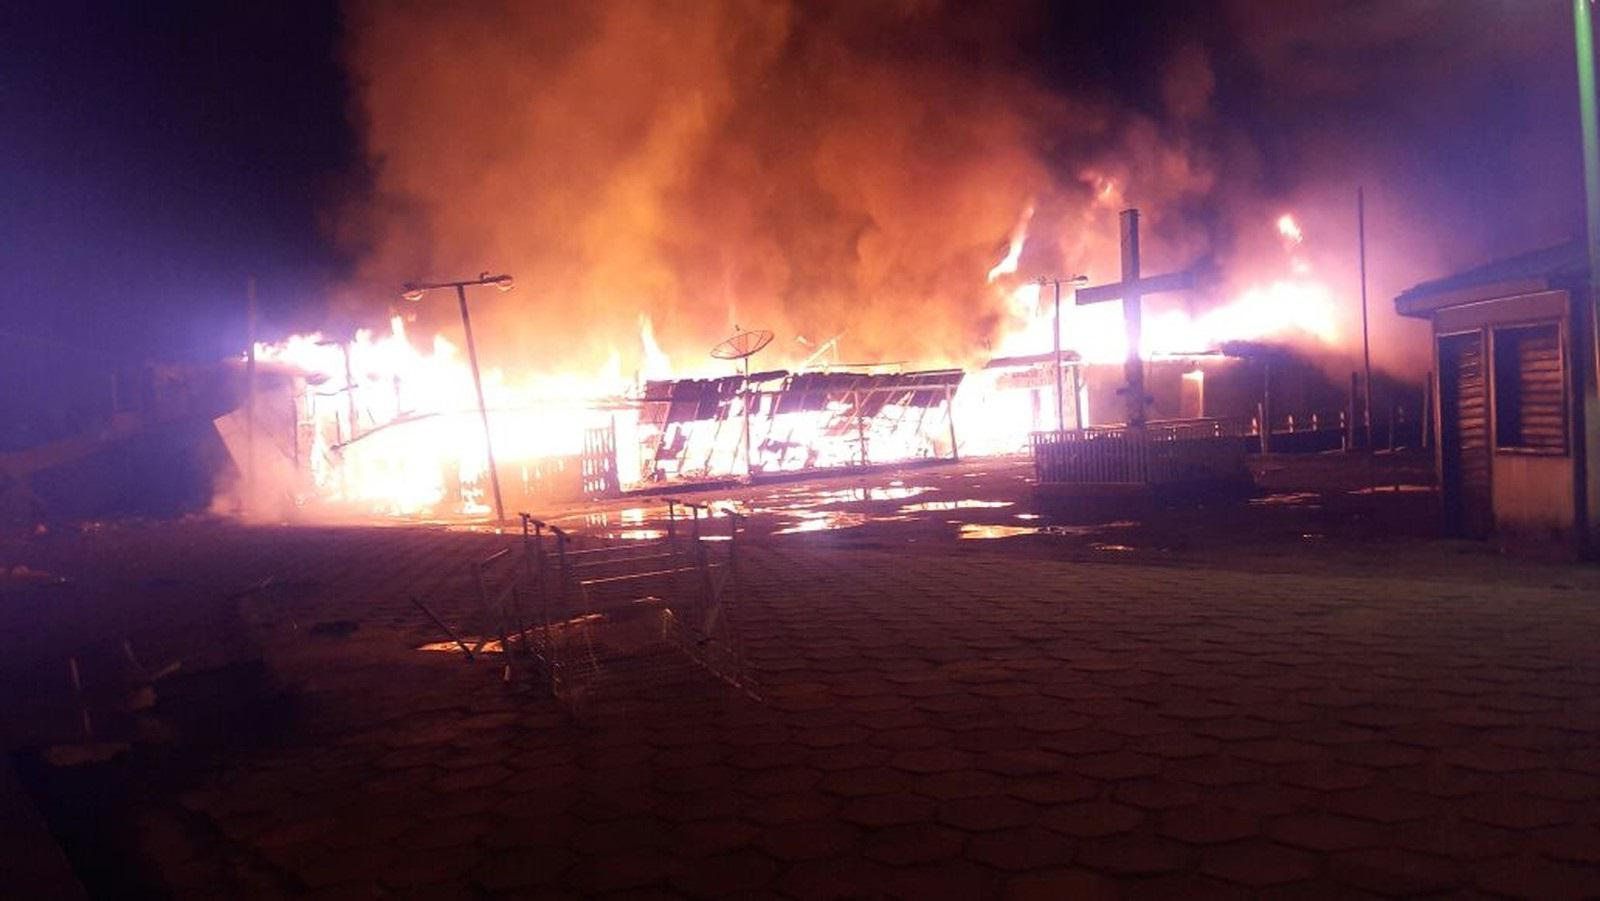Fire: (267, 297, 969, 497), (968, 231, 1325, 453)
